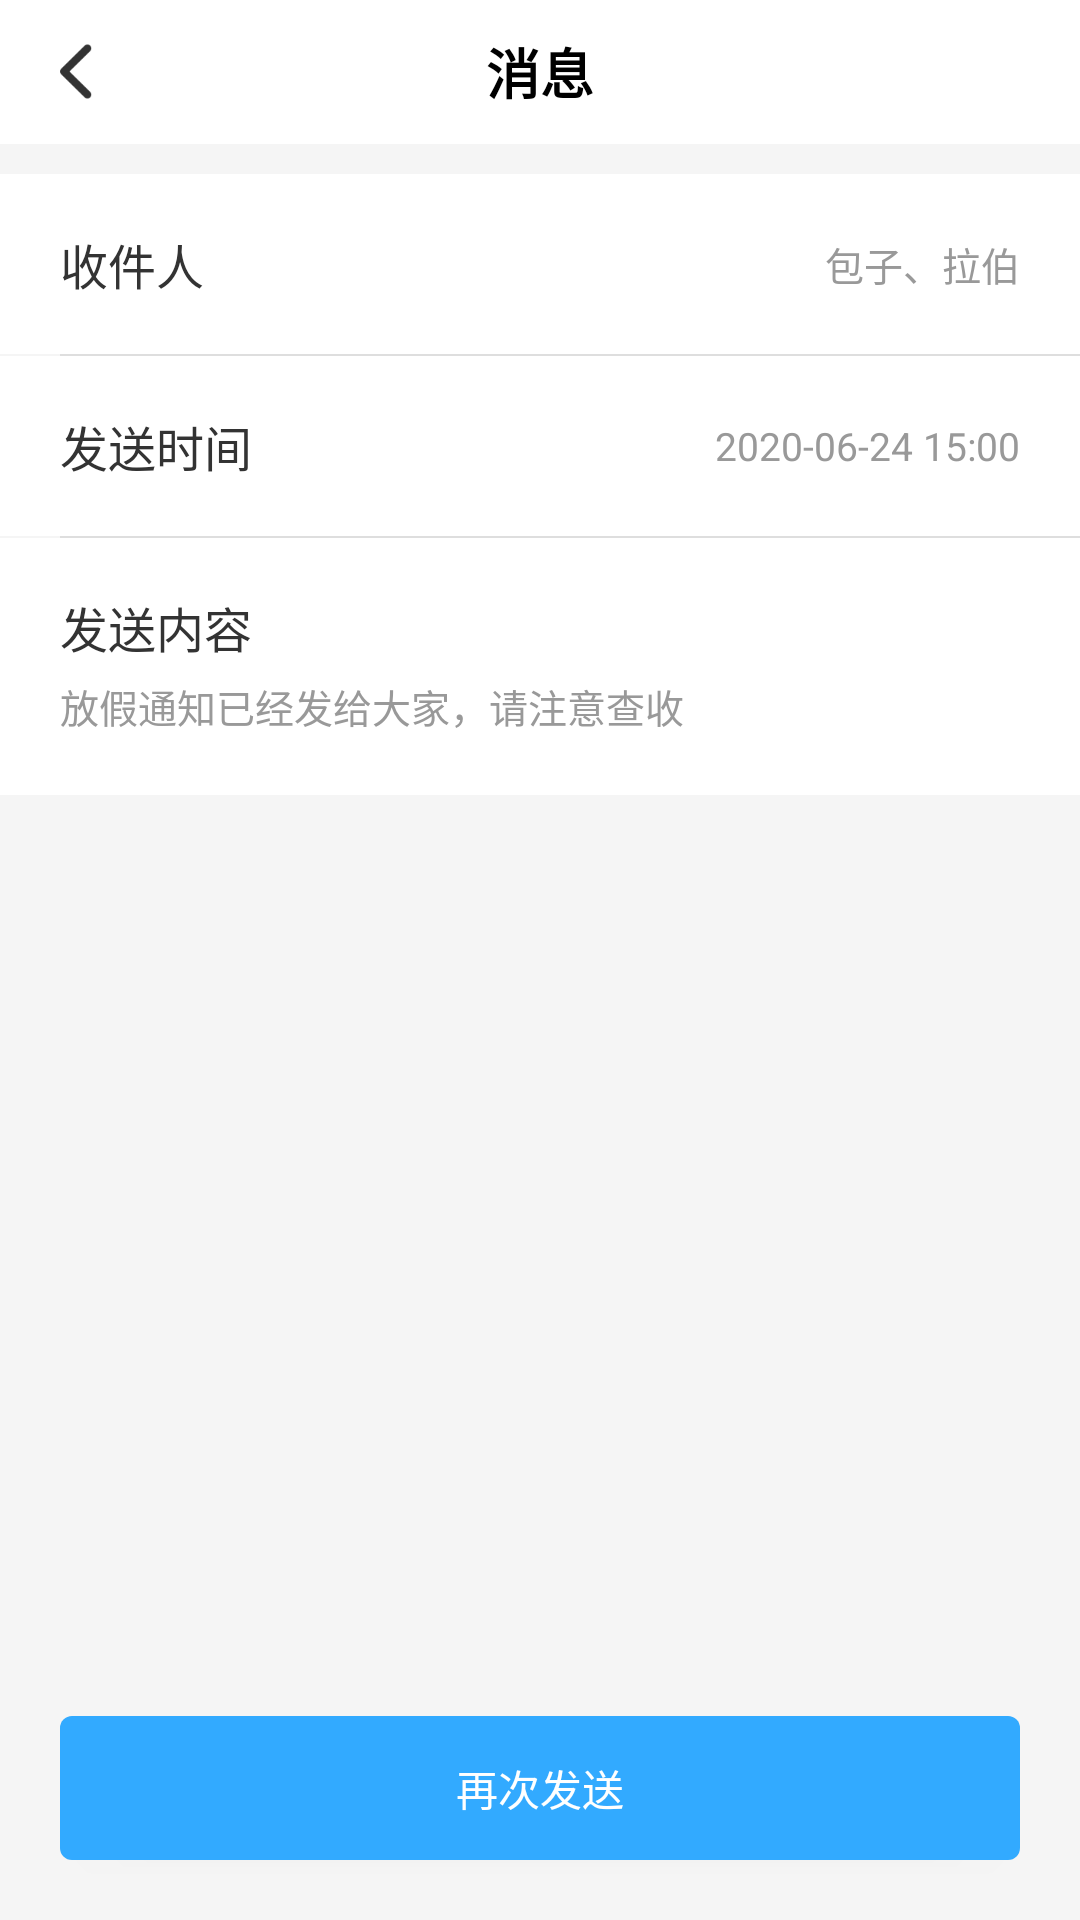

Where icons sit on this 1080px x 1920px app screen, as Rect(x1, y1, x2, y2):
back: Rect(60, 44, 92, 99)
